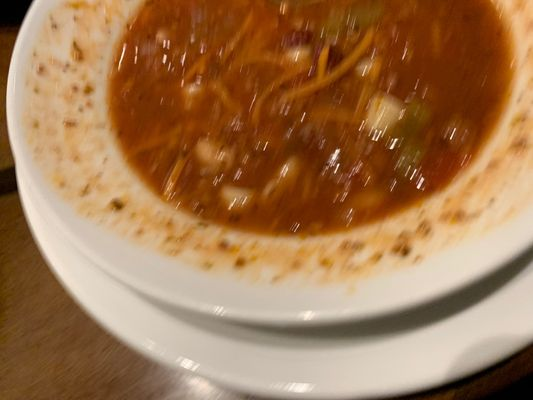curry: (1, 0, 533, 399)
sushi: (26, 1, 528, 293)
